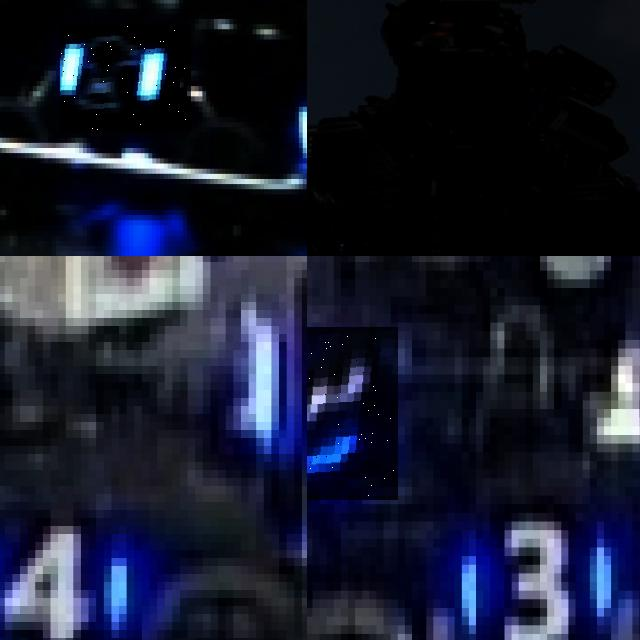B3: (437, 478, 615, 640), (307, 327, 397, 500)
B4: (0, 510, 137, 640)
Bs: (60, 24, 191, 133)
